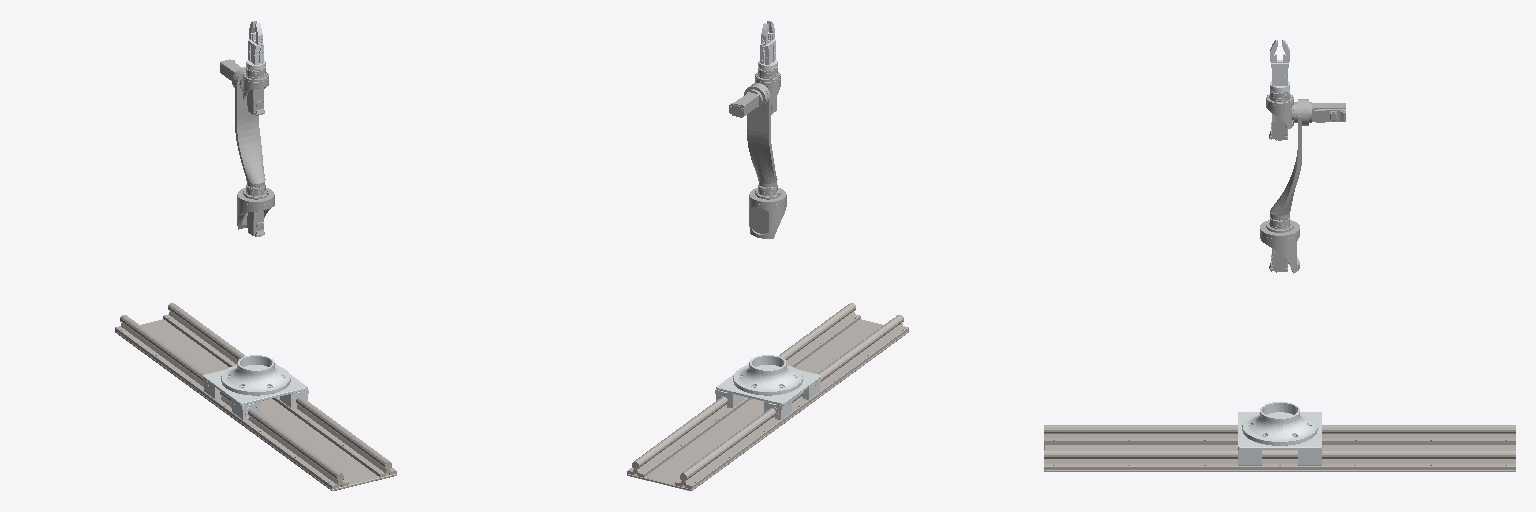
The robot description file, URDF, robot "si75_description":
<?xml version="1.0" encoding="utf-8"?>
<!-- This URDF was automatically created by SolidWorks to URDF Exporter! Originally created by [author] ([email redacted]) 
     Commit Version: 1.6.0-1-g15f4949  Build Version: 1.6.7594.29634
     For more information, please see http://wiki.ros.org/sw_urdf_exporter -->
<robot
  name="si75_description">
  <link
    name="base_link">
    <inertial>
      <origin
        xyz="-3.6516E-16 0.00019559 0.021596"
        rpy="0 0 0" />
      <mass
        value="27.667" />
      <inertia
        ixx="3.6038"
        ixy="4.9303E-17"
        ixz="1.4747E-16"
        iyy="0.029042"
        iyz="0.0001152"
        izz="3.6249" />
    </inertial>
    <visual>
      <origin
        xyz="0 0 0"
        rpy="0 0 0" />
      <geometry>
        <mesh
          filename="package://si75_description/meshes/base_link.STL" />
      </geometry>
      <material
        name="">
        <color
          rgba="0.77647 0.75686 0.73725 1" />
      </material>
    </visual>
    <collision>
      <origin
        xyz="0 0 0"
        rpy="0 0 0" />
      <geometry>
        <mesh
          filename="package://si75_description/meshes/base_link.STL" />
      </geometry>
    </collision>
  </link>
  <link
    name="link0">
    <inertial>
      <origin
        xyz="-0.00063204 -0.0042993 -3.5585E-08"
        rpy="0 0 0" />
      <mass
        value="4.311" />
      <inertia
        ixx="0.0092654"
        ixy="-3.5443E-10"
        ixz="-1.0068E-09"
        iyy="0.01746"
        iyz="-8.6196E-10"
        izz="0.0092665" />
    </inertial>
    <visual>
      <origin
        xyz="0 0 0"
        rpy="0 0 0" />
      <geometry>
        <mesh
          filename="package://si75_description/meshes/link0.STL" />
      </geometry>
      <material
        name="">
        <color
          rgba="0.89804 0.91765 0.92941 1" />
      </material>
    </visual>
    <collision>
      <origin
        xyz="0 0 0"
        rpy="0 0 0" />
      <geometry>
        <mesh
          filename="package://si75_description/meshes/link0.STL" />
      </geometry>
    </collision>
  </link>
  <joint
    name="joint0"
    type="prismatic">
    <origin
      xyz="0 0 0.075"
      rpy="1.5708 0 0" />
    <parent
      link="base_link" />
    <child
      link="link0" />
    <axis
      xyz="0 0 1" />
    <limit
      lower="-0.5"
      upper="0.5"
      effort="80"
      velocity="0.5" />
  </joint>
  <link
    name="link1">
    <inertial>
      <origin
        xyz="2.8737E-06 -0.0082861 -0.079664"
        rpy="0 0 0" />
      <mass
        value="1.3224" />
      <inertia
        ixx="0.0017521"
        ixy="3.6409E-07"
        ixz="-4.9769E-09"
        iyy="0.0019049"
        iyz="-0.00033285"
        izz="0.0017515" />
    </inertial>
    <visual>
      <origin
        xyz="0 0 0"
        rpy="0 0 0" />
      <geometry>
        <mesh
          filename="package://si75_description/meshes/link1.STL" />
      </geometry>
      <material
        name="">
        <color
          rgba="0.75294 0.75294 0.75294 1" />
      </material>
    </visual>
    <collision>
      <origin
        xyz="0 0 0"
        rpy="0 0 0" />
      <geometry>
        <mesh
          filename="package://si75_description/meshes/link1.STL" />
      </geometry>
    </collision>
  </link>
  <joint
    name="joint1"
    type="revolute">
    <origin
      xyz="0 0.03 0"
      rpy="1.5708 0 0" />
    <parent
      link="link0" />
    <child
      link="link1" />
    <axis
      xyz="0 0 1" />
    <limit
      lower="-3.141"
      upper="3.141"
      effort="80"
      velocity="0.5" />
  </joint>
  <link
    name="link2">
    <inertial>
      <origin
        xyz="-0.00010161 0.18977 -0.055942"
        rpy="0 0 0" />
      <mass
        value="2.706" />
      <inertia
        ixx="0.019855"
        ixy="8.7529E-06"
        ixz="3.5066E-06"
        iyy="0.00264"
        iyz="-2.1133E-09"
        izz="0.020892" />
    </inertial>
    <visual>
      <origin
        xyz="0 0 0"
        rpy="0 0 0" />
      <geometry>
        <mesh
          filename="package://si75_description/meshes/link2.STL" />
      </geometry>
      <material
        name="">
        <color
          rgba="0.75294 0.75294 0.75294 1" />
      </material>
    </visual>
    <collision>
      <origin
        xyz="0 0 0"
        rpy="0 0 0" />
      <geometry>
        <mesh
          filename="package://si75_description/meshes/link2.STL" />
      </geometry>
    </collision>
  </link>
  <joint
    name="joint2"
    type="revolute">
    <origin
      xyz="0 -0.045 -0.1"
      rpy="-1.5708 0 0" />
    <parent
      link="link1" />
    <child
      link="link2" />
    <axis
      xyz="0 0 1" />
    <limit
      lower="-2.141"
      upper="2.141"
      effort="80"
      velocity="0.5" />
  </joint>
  <link
    name="link3">
    <inertial>
      <origin
        xyz="1.6349E-06 0.03134 0.037212"
        rpy="0 0 0" />
      <mass
        value="1.3962" />
      <inertia
        ixx="0.0016673"
        ixy="-5.0939E-09"
        ixz="2.2146E-06"
        iyy="0.0018302"
        iyz="-0.00033071"
        izz="0.0018186" />
    </inertial>
    <visual>
      <origin
        xyz="0 0 0"
        rpy="0 0 0" />
      <geometry>
        <mesh
          filename="package://si75_description/meshes/link3.STL" />
      </geometry>
      <material
        name="">
        <color
          rgba="0.75294 0.75294 0.75294 1" />
      </material>
    </visual>
    <collision>
      <origin
        xyz="0 0 0"
        rpy="0 0 0" />
      <geometry>
        <mesh
          filename="package://si75_description/meshes/link3.STL" />
      </geometry>
    </collision>
  </link>
  <joint
    name="joint3"
    type="revolute">
    <origin
      xyz="0 0.39975 0"
      rpy="0 0 0" />
    <parent
      link="link2" />
    <child
      link="link3" />
    <axis
      xyz="0 0 1" />
    <limit
      lower="-2.8"
      upper="2.8"
      effort="80"
      velocity="0.5" />
  </joint>
  <link
    name="link4">
    <inertial>
      <origin
        xyz="0.0017803 0.077114 0.2421"
        rpy="0 0 0" />
      <mass
        value="1.0512" />
      <inertia
        ixx="0.0035131"
        ixy="-1.2592E-05"
        ixz="-6.7395E-06"
        iyy="0.0033249"
        iyz="-0.00058909"
        izz="0.00072825" />
    </inertial>
    <visual>
      <origin
        xyz="0 0 0"
        rpy="0 0 0" />
      <geometry>
        <mesh
          filename="package://si75_description/meshes/link4.STL" />
      </geometry>
      <material
        name="">
        <color
          rgba="0.75294 0.75294 0.75294 1" />
      </material>
    </visual>
    <collision>
      <origin
        xyz="0 0 0"
        rpy="0 0 0" />
      <geometry>
        <mesh
          filename="package://si75_description/meshes/link4.STL" />
      </geometry>
    </collision>
  </link>
  <joint
    name="joint4"
    type="revolute">
    <origin
      xyz="0 0.098 0.045"
      rpy="-1.5708 0.019661 0" />
    <parent
      link="link3" />
    <child
      link="link4" />
    <axis
      xyz="0 0 1" />
    <limit
      lower="-3.141"
      upper="3.141"
      effort="80"
      velocity="0.5" />
  </joint>
  <link
    name="link5">
    <inertial>
      <origin
        xyz="-1.4342E-05 0.0061566 0.030217"
        rpy="0 0 0" />
      <mass
        value="1.022" />
      <inertia
        ixx="0.00067525"
        ixy="-2.1361E-07"
        ixz="4.8106E-06"
        iyy="0.0005408"
        iyz="-4.886E-05"
        izz="0.00068868" />
    </inertial>
    <visual>
      <origin
        xyz="0 0 0"
        rpy="0 0 0" />
      <geometry>
        <mesh
          filename="package://si75_description/meshes/link5.STL" />
      </geometry>
      <material
        name="">
        <color
          rgba="0.75294 0.75294 0.75294 1" />
      </material>
    </visual>
    <collision>
      <origin
        xyz="0 0 0"
        rpy="0 0 0" />
      <geometry>
        <mesh
          filename="package://si75_description/meshes/link5.STL" />
      </geometry>
    </collision>
  </link>
  <joint
    name="joint5"
    type="revolute">
    <origin
      xyz="0.00063045 0.032061 0.30175"
      rpy="1.5708 0 -0.019661" />
    <parent
      link="link4" />
    <child
      link="link5" />
    <axis
      xyz="0 0 1" />
    <limit
      lower="-3.141"
      upper="3.141"
      effort="80"
      velocity="0.5" />
  </joint>
  <link
    name="link6">
    <inertial>
      <origin
        xyz="-7.669E-18 1.7949E-18 0.0074166"
        rpy="0 0 0" />
      <mass
        value="0.081461" />
      <inertia
        ixx="1.754E-05"
        ixy="-1.0909E-21"
        ixz="-2.6523E-22"
        iyy="1.8583E-05"
        iyz="-5.1886E-21"
        izz="3.309E-05" />
    </inertial>
    <visual>
      <origin
        xyz="0 0 0"
        rpy="0 0 0" />
      <geometry>
        <mesh
          filename="package://si75_description/meshes/link6.STL" />
      </geometry>
      <material
        name="">
        <color
          rgba="0.89804 0.91765 0.92941 1" />
      </material>
    </visual>
    <collision>
      <origin
        xyz="0 0 0"
        rpy="0 0 0" />
      <geometry>
        <mesh
          filename="package://si75_description/meshes/link6.STL" />
      </geometry>
    </collision>
  </link>
  <joint
    name="joint6"
    type="revolute">
    <origin
      xyz="0 0.0705 0.03207"
      rpy="-1.5708 0 0" />
    <parent
      link="link5" />
    <child
      link="link6" />
    <axis
      xyz="0 0 1" />
    <limit
      lower="-3.141"
      upper="3.141"
      effort="80"
      velocity="0.5" />
  </joint>
  <link
    name="link_tool">
    <inertial>
      <origin
        xyz="6.2564E-06 3.3394E-05 0.031908"
        rpy="0 0 0" />
      <mass
        value="0.16269" />
      <inertia
        ixx="7.5997E-05"
        ixy="-8.8251E-08"
        ixz="1.2432E-08"
        iyy="6.2828E-05"
        iyz="-6.8306E-08"
        izz="3.5318E-05" />
    </inertial>
    <visual>
      <origin
        xyz="0 0 0"
        rpy="0 0 0" />
      <geometry>
        <mesh
          filename="package://si75_description/meshes/link_tool.STL" />
      </geometry>
      <material
        name="">
        <color
          rgba="0.89804 0.91765 0.92941 1" />
      </material>
    </visual>
    <collision>
      <origin
        xyz="0 0 0"
        rpy="0 0 0" />
      <geometry>
        <mesh
          filename="package://si75_description/meshes/link_tool.STL" />
      </geometry>
    </collision>
  </link>
  <joint
    name="joint_tool"
    type="fixed">
    <origin
      xyz="0 0 0.015"
      rpy="0 0 0" />
    <parent
      link="link6" />
    <child
      link="link_tool" />
    <axis
      xyz="0 0 0" />
  </joint>
  <link
    name="link_finger_left">
    <inertial>
      <origin
        xyz="-2.381E-09 0.031222 -0.0051254"
        rpy="0 0 0" />
      <mass
        value="0.032972" />
      <inertia
        ixx="7.4777E-06"
        ixy="6.2336E-13"
        ixz="5.822E-13"
        iyy="1.321E-06"
        iyz="-1.1623E-06"
        izz="7.328E-06" />
    </inertial>
    <visual>
      <origin
        xyz="0 0 0"
        rpy="0 0 0" />
      <geometry>
        <mesh
          filename="package://si75_description/meshes/link_finger_left.STL" />
      </geometry>
      <material
        name="">
        <color
          rgba="0.89804 0.91765 0.92941 1" />
      </material>
    </visual>
    <collision>
      <origin
        xyz="0 0 0"
        rpy="0 0 0" />
      <geometry>
        <mesh
          filename="package://si75_description/meshes/link_finger_left.STL" />
      </geometry>
    </collision>
  </link>
  <joint
    name="joint_finger_left"
    type="prismatic">
    <origin
      xyz="0 0.01069 0.0577"
      rpy="1.5708 0 0" />
    <parent
      link="link_tool" />
    <child
      link="link_finger_left" />
    <axis
      xyz="0 0 1" />
    <limit
      lower="-0.01"
      upper="0.0"
      effort="10"
      velocity="0.5" />
  </joint>
  <link
    name="link_finger_right">
    <inertial>
      <origin
        xyz="2.381E-09 -0.031222 -0.0051254"
        rpy="0 0 0" />
      <mass
        value="0.032972" />
      <inertia
        ixx="7.4777E-06"
        ixy="6.2336E-13"
        ixz="-5.822E-13"
        iyy="1.321E-06"
        iyz="1.1623E-06"
        izz="7.328E-06" />
    </inertial>
    <visual>
      <origin
        xyz="0 0 0"
        rpy="0 0 0" />
      <geometry>
        <mesh
          filename="package://si75_description/meshes/link_finger_right.STL" />
      </geometry>
      <material
        name="">
        <color
          rgba="0.89804 0.91765 0.92941 1" />
      </material>
    </visual>
    <collision>
      <origin
        xyz="0 0 0"
        rpy="0 0 0" />
      <geometry>
        <mesh
          filename="package://si75_description/meshes/link_finger_right.STL" />
      </geometry>
    </collision>
  </link>
  <joint
    name="joint_finger_right"
    type="prismatic">
    <origin
      xyz="0 -0.01069 0.0577"
      rpy="-1.5708 0 0" />
    <parent
      link="link_tool" />
    <child
      link="link_finger_right" />
    <axis
      xyz="0 0 1" />
    <limit
      lower="-0.01"
      upper="0.0"
      effort="10"
      velocity="0.5" />
  </joint>

  <link name="eef_link"/>


  <joint name="eef_joint" type="fixed">
    <origin
      xyz="0 0 0.115"
      rpy="0 0 0" />
    <parent link="link_tool"/>
    <child link="eef_link"/>
  </joint>

  <gazebo>
    <plugin name="gazebo_ros_control" filename="libgazebo_ros_control.so">
      <robotNamespace>/</robotNamespace>
      <legacyModeNS> true </legacyModeNS>
      <robotSimType>gazebo_ros_control/DefaultRobotHWSim</robotSimType>
    </plugin>
  </gazebo>

  <gazebo reference="base_link">
    <static>true</static>
  </gazebo>

  <transmission name="tran0">
    <type>transmission_interface/SimpleTransmission</type>
    <joint name="joint0">
      <hardwareInterface>hardware_interface/EffortJointInterface</hardwareInterface>
    </joint>
    <actuator name="motor0">
      <hardwareInterface>hardware_interface/EffortJointInterface</hardwareInterface>
      <mechanicalReduction>1</mechanicalReduction>
    </actuator>
  </transmission>  

  <transmission name="tran1">
    <type>transmission_interface/SimpleTransmission</type>
    <joint name="joint1">
      <hardwareInterface>hardware_interface/EffortJointInterface</hardwareInterface>
    </joint>
    <actuator name="motor1">
      <hardwareInterface>hardware_interface/EffortJointInterface</hardwareInterface>
      <mechanicalReduction>1</mechanicalReduction>
    </actuator>
  </transmission>   

  <transmission name="tran2">
    <type>transmission_interface/SimpleTransmission</type>
    <joint name="joint2">
      <hardwareInterface>hardware_interface/EffortJointInterface</hardwareInterface>
    </joint>
    <actuator name="motor2">
      <hardwareInterface>hardware_interface/EffortJointInterface</hardwareInterface>
      <mechanicalReduction>1</mechanicalReduction>
    </actuator>
  </transmission>   

  <transmission name="tran3">
    <type>transmission_interface/SimpleTransmission</type>
    <joint name="joint3">
      <hardwareInterface>hardware_interface/EffortJointInterface</hardwareInterface>
    </joint>
    <actuator name="motor3">
      <hardwareInterface>hardware_interface/EffortJointInterface</hardwareInterface>
      <mechanicalReduction>1</mechanicalReduction>
    </actuator>
  </transmission> 

  <transmission name="tran4">
    <type>transmission_interface/SimpleTransmission</type>
    <joint name="joint4">
      <hardwareInterface>hardware_interface/EffortJointInterface</hardwareInterface>
    </joint>
    <actuator name="motor4">
      <hardwareInterface>hardware_interface/EffortJointInterface</hardwareInterface>
      <mechanicalReduction>1</mechanicalReduction>
    </actuator>
  </transmission>   

  <transmission name="tran5">
    <type>transmission_interface/SimpleTransmission</type>
    <joint name="joint5">
      <hardwareInterface>hardware_interface/EffortJointInterface</hardwareInterface>
    </joint>
    <actuator name="motor5">
      <hardwareInterface>hardware_interface/EffortJointInterface</hardwareInterface>
      <mechanicalReduction>1</mechanicalReduction>
    </actuator>
  </transmission>   

  <transmission name="tran6">
    <type>transmission_interface/SimpleTransmission</type>
    <joint name="joint6">
      <hardwareInterface>hardware_interface/EffortJointInterface</hardwareInterface>
    </joint>
    <actuator name="motor6">
      <hardwareInterface>hardware_interface/EffortJointInterface</hardwareInterface>
      <mechanicalReduction>1</mechanicalReduction>
    </actuator>
  </transmission>

</robot>

--- What the picture shows (computed from the rendered views, not written in the file) ---
The picture shows the robot from 3 angles, left to right: view 1: azimuth 30°, elevation 25°; view 2: azimuth 150°, elevation 25°; view 3: azimuth 270°, elevation 25°; orthographic projection.
Robot: si75_description — 12 links, 11 joints (6 revolute, 3 prismatic, 2 fixed); root link base_link; default pose: all joints at 0.
Visible links, largest first — view 1: base_link, link0, link4, link3, link5; view 2: base_link, link0, link4, link3, link5; view 3: base_link, link0, link4, link3, link5.
Boxes of the visible links, bbox=[...] form: base_link: bbox=[115, 303, 396, 490]; link0: bbox=[203, 355, 308, 419]; link4: bbox=[220, 59, 265, 187]; link3: bbox=[237, 185, 274, 236]; link5: bbox=[243, 68, 268, 115]; base_link: bbox=[627, 303, 908, 490]; link0: bbox=[715, 355, 820, 419]; link4: bbox=[729, 83, 777, 187]; link3: bbox=[749, 185, 786, 238]; link5: bbox=[755, 68, 780, 114]; base_link: bbox=[1044, 425, 1515, 471]; link0: bbox=[1238, 402, 1321, 465]; link4: bbox=[1270, 99, 1345, 219]; link3: bbox=[1260, 217, 1299, 273]; link5: bbox=[1266, 90, 1293, 140].
Bounding box of the posed robot: 0.225 × 1.25 × 1.21 m (x, y, z).
Meshes: 11 distinct files referenced, 9 mesh visuals loaded (9 binary STL); not drawn: 2 (reference not matched to a file when rendering).